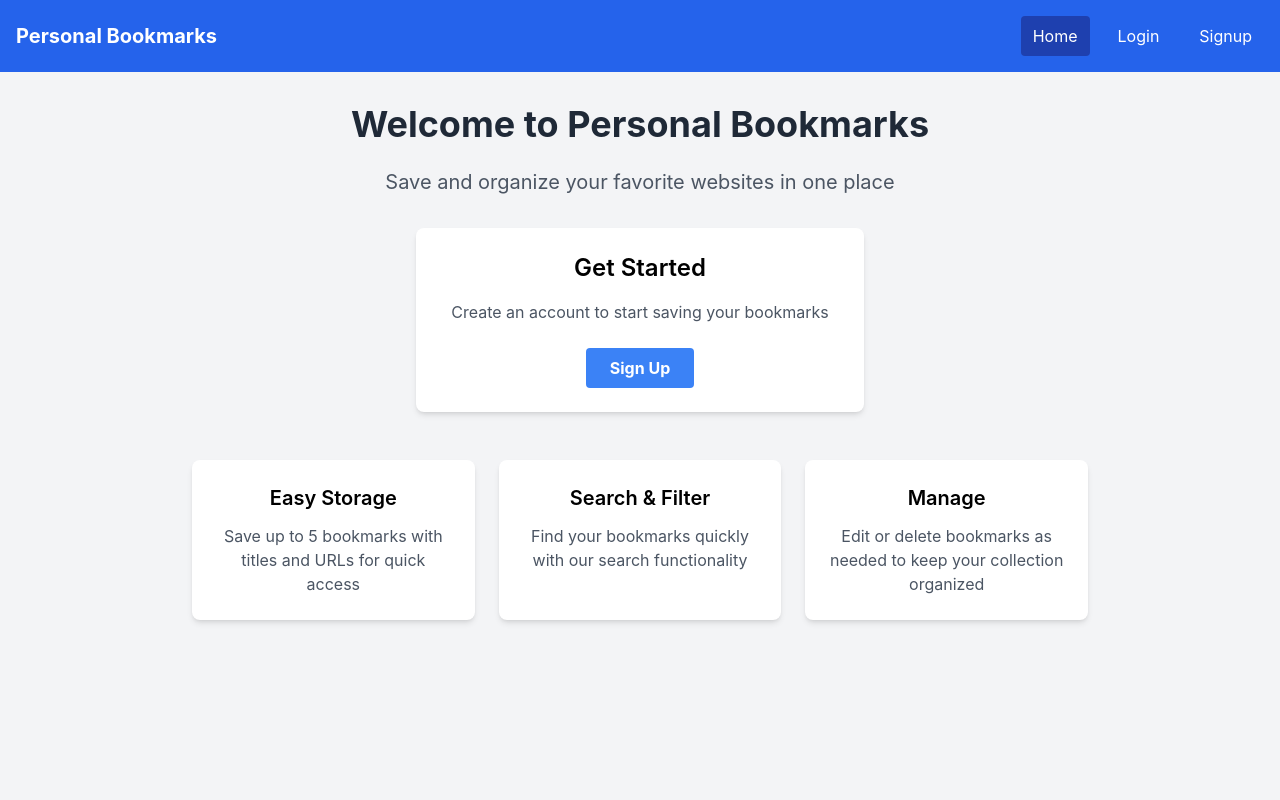
Test: renders home and navigates to signup
Expected: the heading "Welcome to Personal Bookmarks" is shown, [351,102,929,146]
# Click signup button in navbar (use getAllByRole and pick the first one)
Click the button "Signup" at (1226, 36), box [1187,16,1264,56]
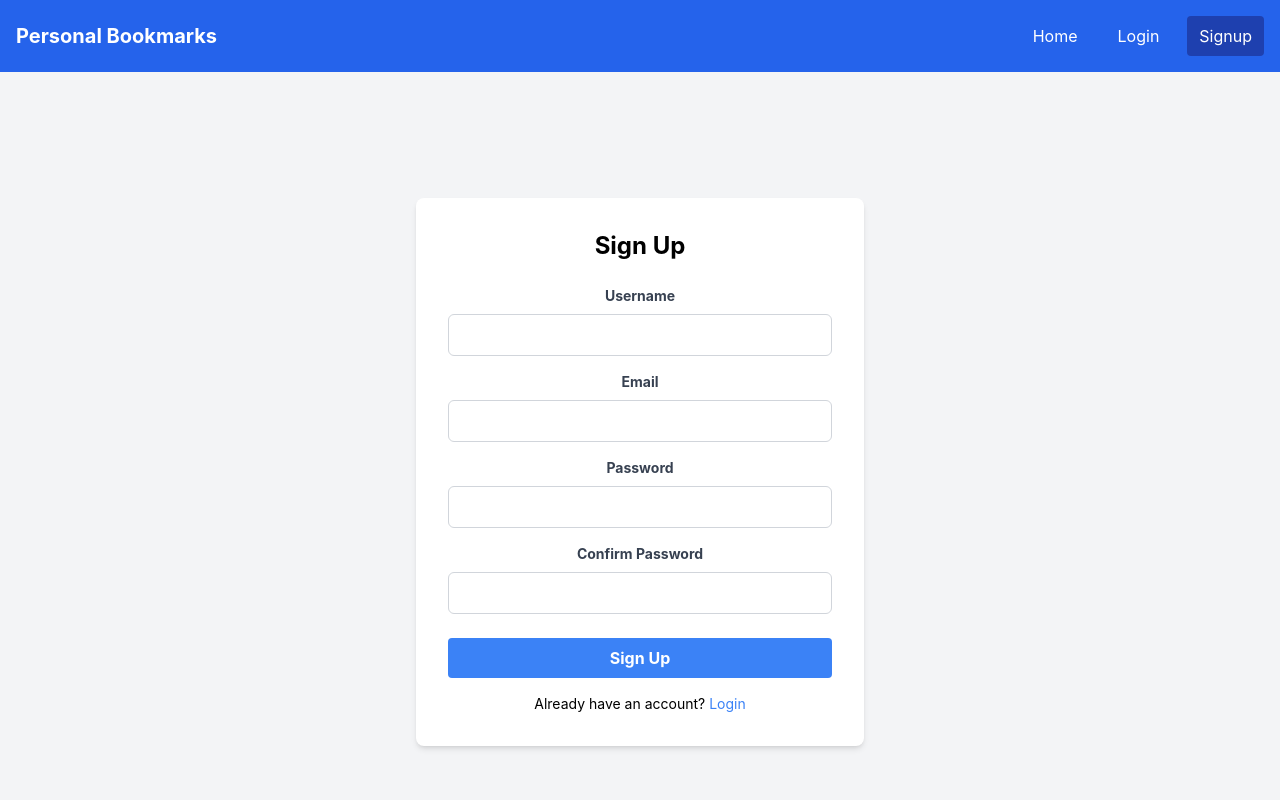
Expected: the heading "Sign Up" is shown, [595,231,685,260]
